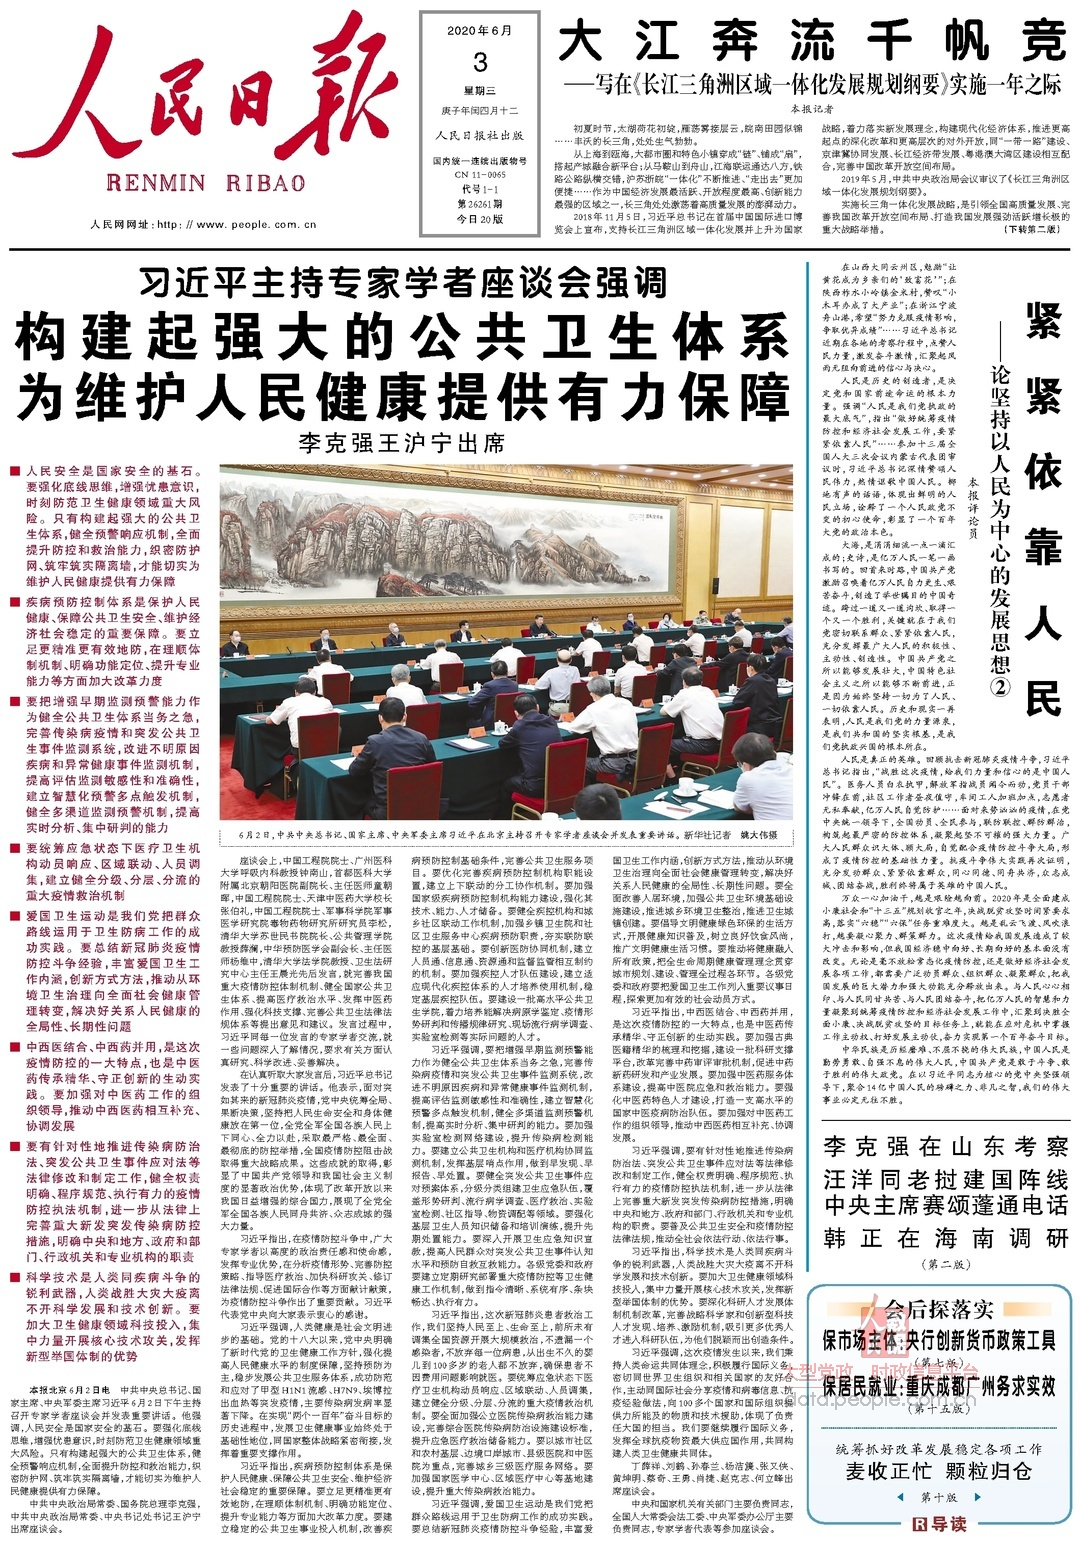pic: (215, 458, 802, 825)
